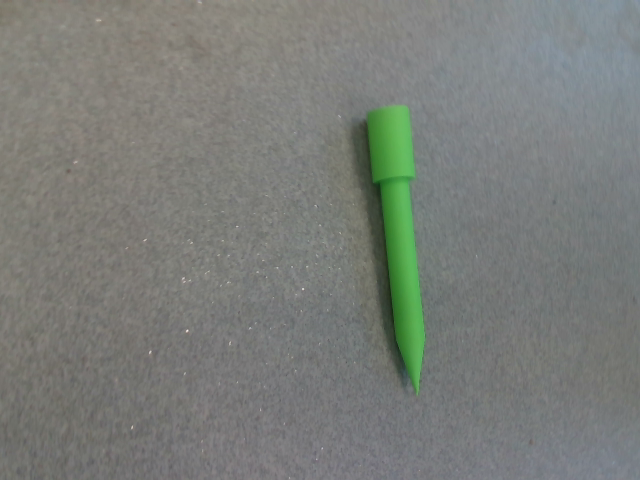Probe: (359, 98, 435, 408)
